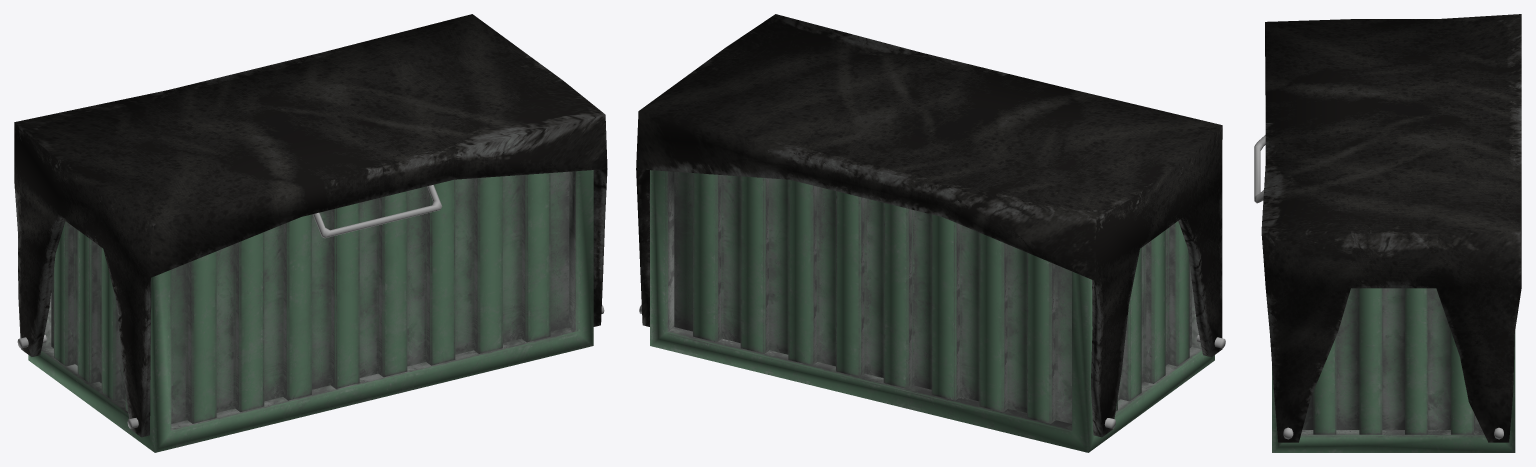
File: little-crate.fbx
3 views of the same model, side by side, from view 1: azimuth 30°, elevation 25°; view 2: azimuth 150°, elevation 25°; view 3: azimuth 270°, elevation 25° (orthographic). The views are drawn at different scales.
Parts seen in each view (by area): view 1: little-crate; view 2: little-crate; view 3: little-crate.
Boxes of the visible parts, x1,y1,x2,y2 form: little-crate: [14, 14, 607, 452]; little-crate: [636, 14, 1225, 452]; little-crate: [1254, 14, 1521, 452].
Size of the model in its own units: 159 by 76.49 by 81.02.
Materials: 1 (1 with a texture image).
